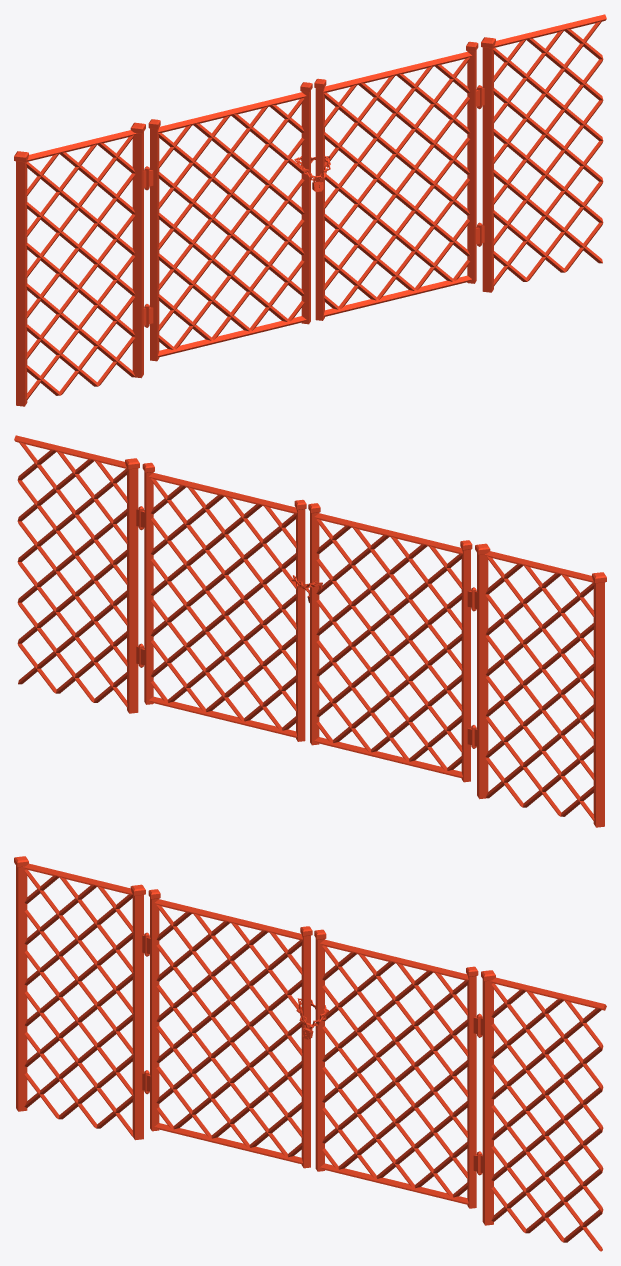
File: SM_Fence_Chainlink_Gate_Low_City.fbx
3 renders of one model, top to bottom at view 1: azimuth 30°, elevation 25°; view 2: azimuth 150°, elevation 25°; view 3: azimuth 330°, elevation 25°, orthographic.
Parts seen in each view (by area): view 1: SM_Fence_Chainlink_Gate_Low_City_Base, SM_Fence_Chainlink_Gate_Low_City_Door_L, SM_Fence_Chainlink_Gate_Low_City_Door_R; view 2: SM_Fence_Chainlink_Gate_Low_City_Base, SM_Fence_Chainlink_Gate_Low_City_Door_L, SM_Fence_Chainlink_Gate_Low_City_Door_R; view 3: SM_Fence_Chainlink_Gate_Low_City_Base, SM_Fence_Chainlink_Gate_Low_City_Door_L, SM_Fence_Chainlink_Gate_Low_City_Door_R.
Part boxes in pixels (x1,y1,x2,y2): SM_Fence_Chainlink_Gate_Low_City_Base: (14,14,606,406); SM_Fence_Chainlink_Gate_Low_City_Door_L: (314,41,482,320); SM_Fence_Chainlink_Gate_Low_City_Door_R: (144,82,312,361); SM_Fence_Chainlink_Gate_Low_City_Base: (14,435,606,827); SM_Fence_Chainlink_Gate_Low_City_Door_L: (138,462,306,741); SM_Fence_Chainlink_Gate_Low_City_Door_R: (308,503,476,782); SM_Fence_Chainlink_Gate_Low_City_Base: (14,856,606,1251); SM_Fence_Chainlink_Gate_Low_City_Door_L: (314,929,482,1208); SM_Fence_Chainlink_Gate_Low_City_Door_R: (144,889,312,1168).
Bounding box in the file's own units: 5.06 × 2.05 × 0.1889.
